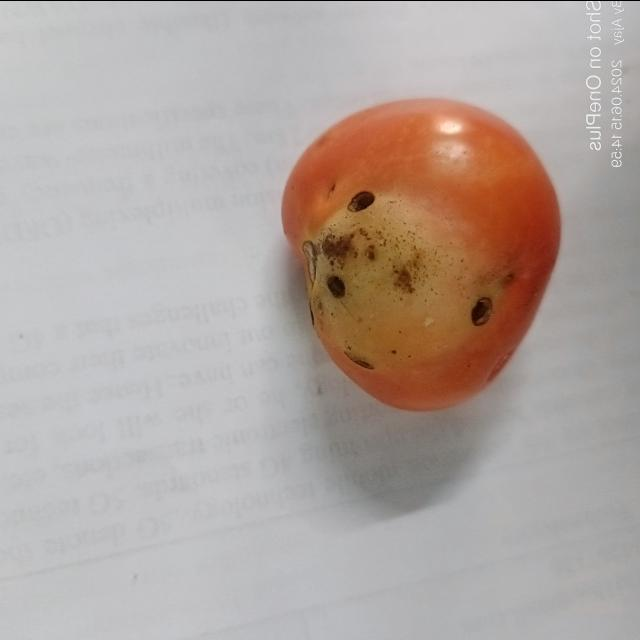fruitworm_bore: (462, 290, 498, 333), (343, 190, 381, 217), (320, 272, 348, 304)
